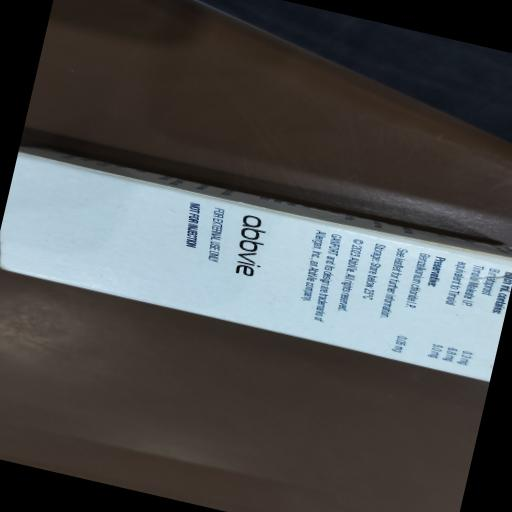eye-drops: (212, 206, 281, 287)
medicine: (0, 146, 512, 383)
